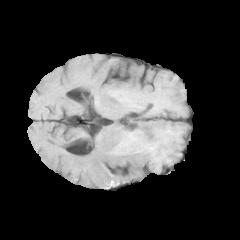glioma: (56, 119, 176, 187)
